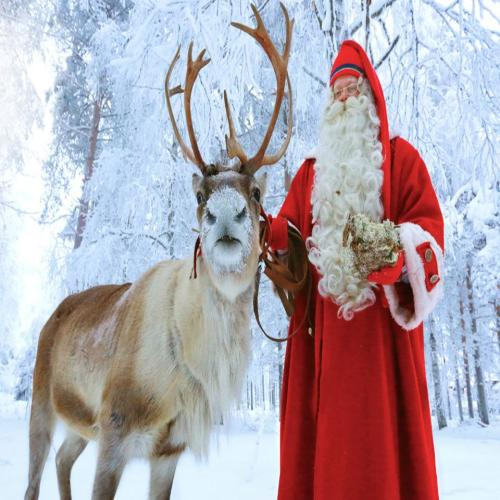Santa: (261, 40, 445, 500)
